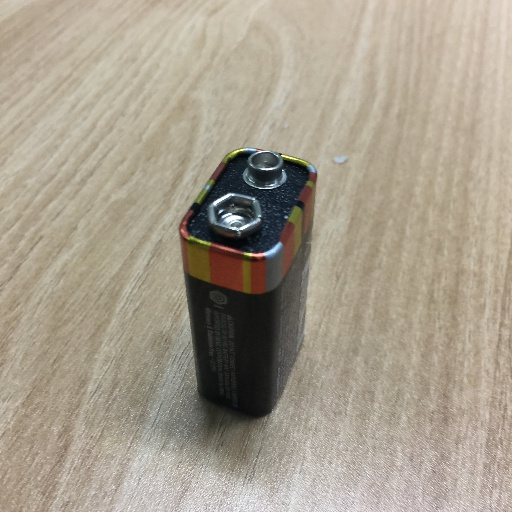Battery_3: (163, 132, 331, 432)
